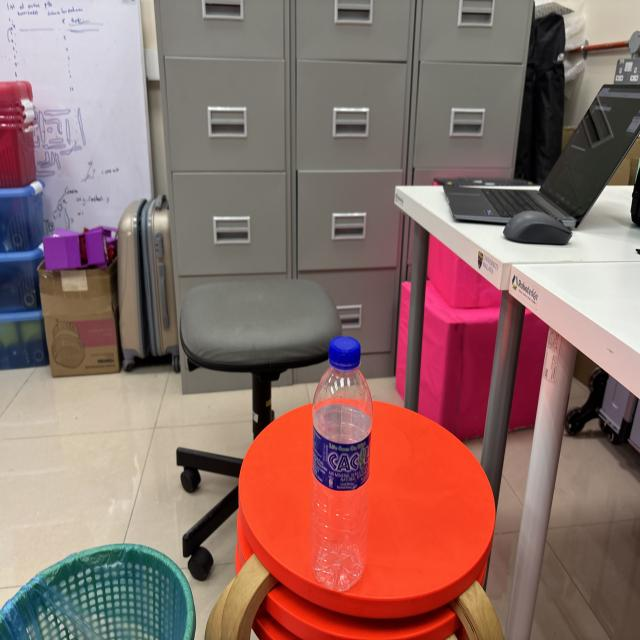plastic_bottle: (306, 328, 380, 597)
